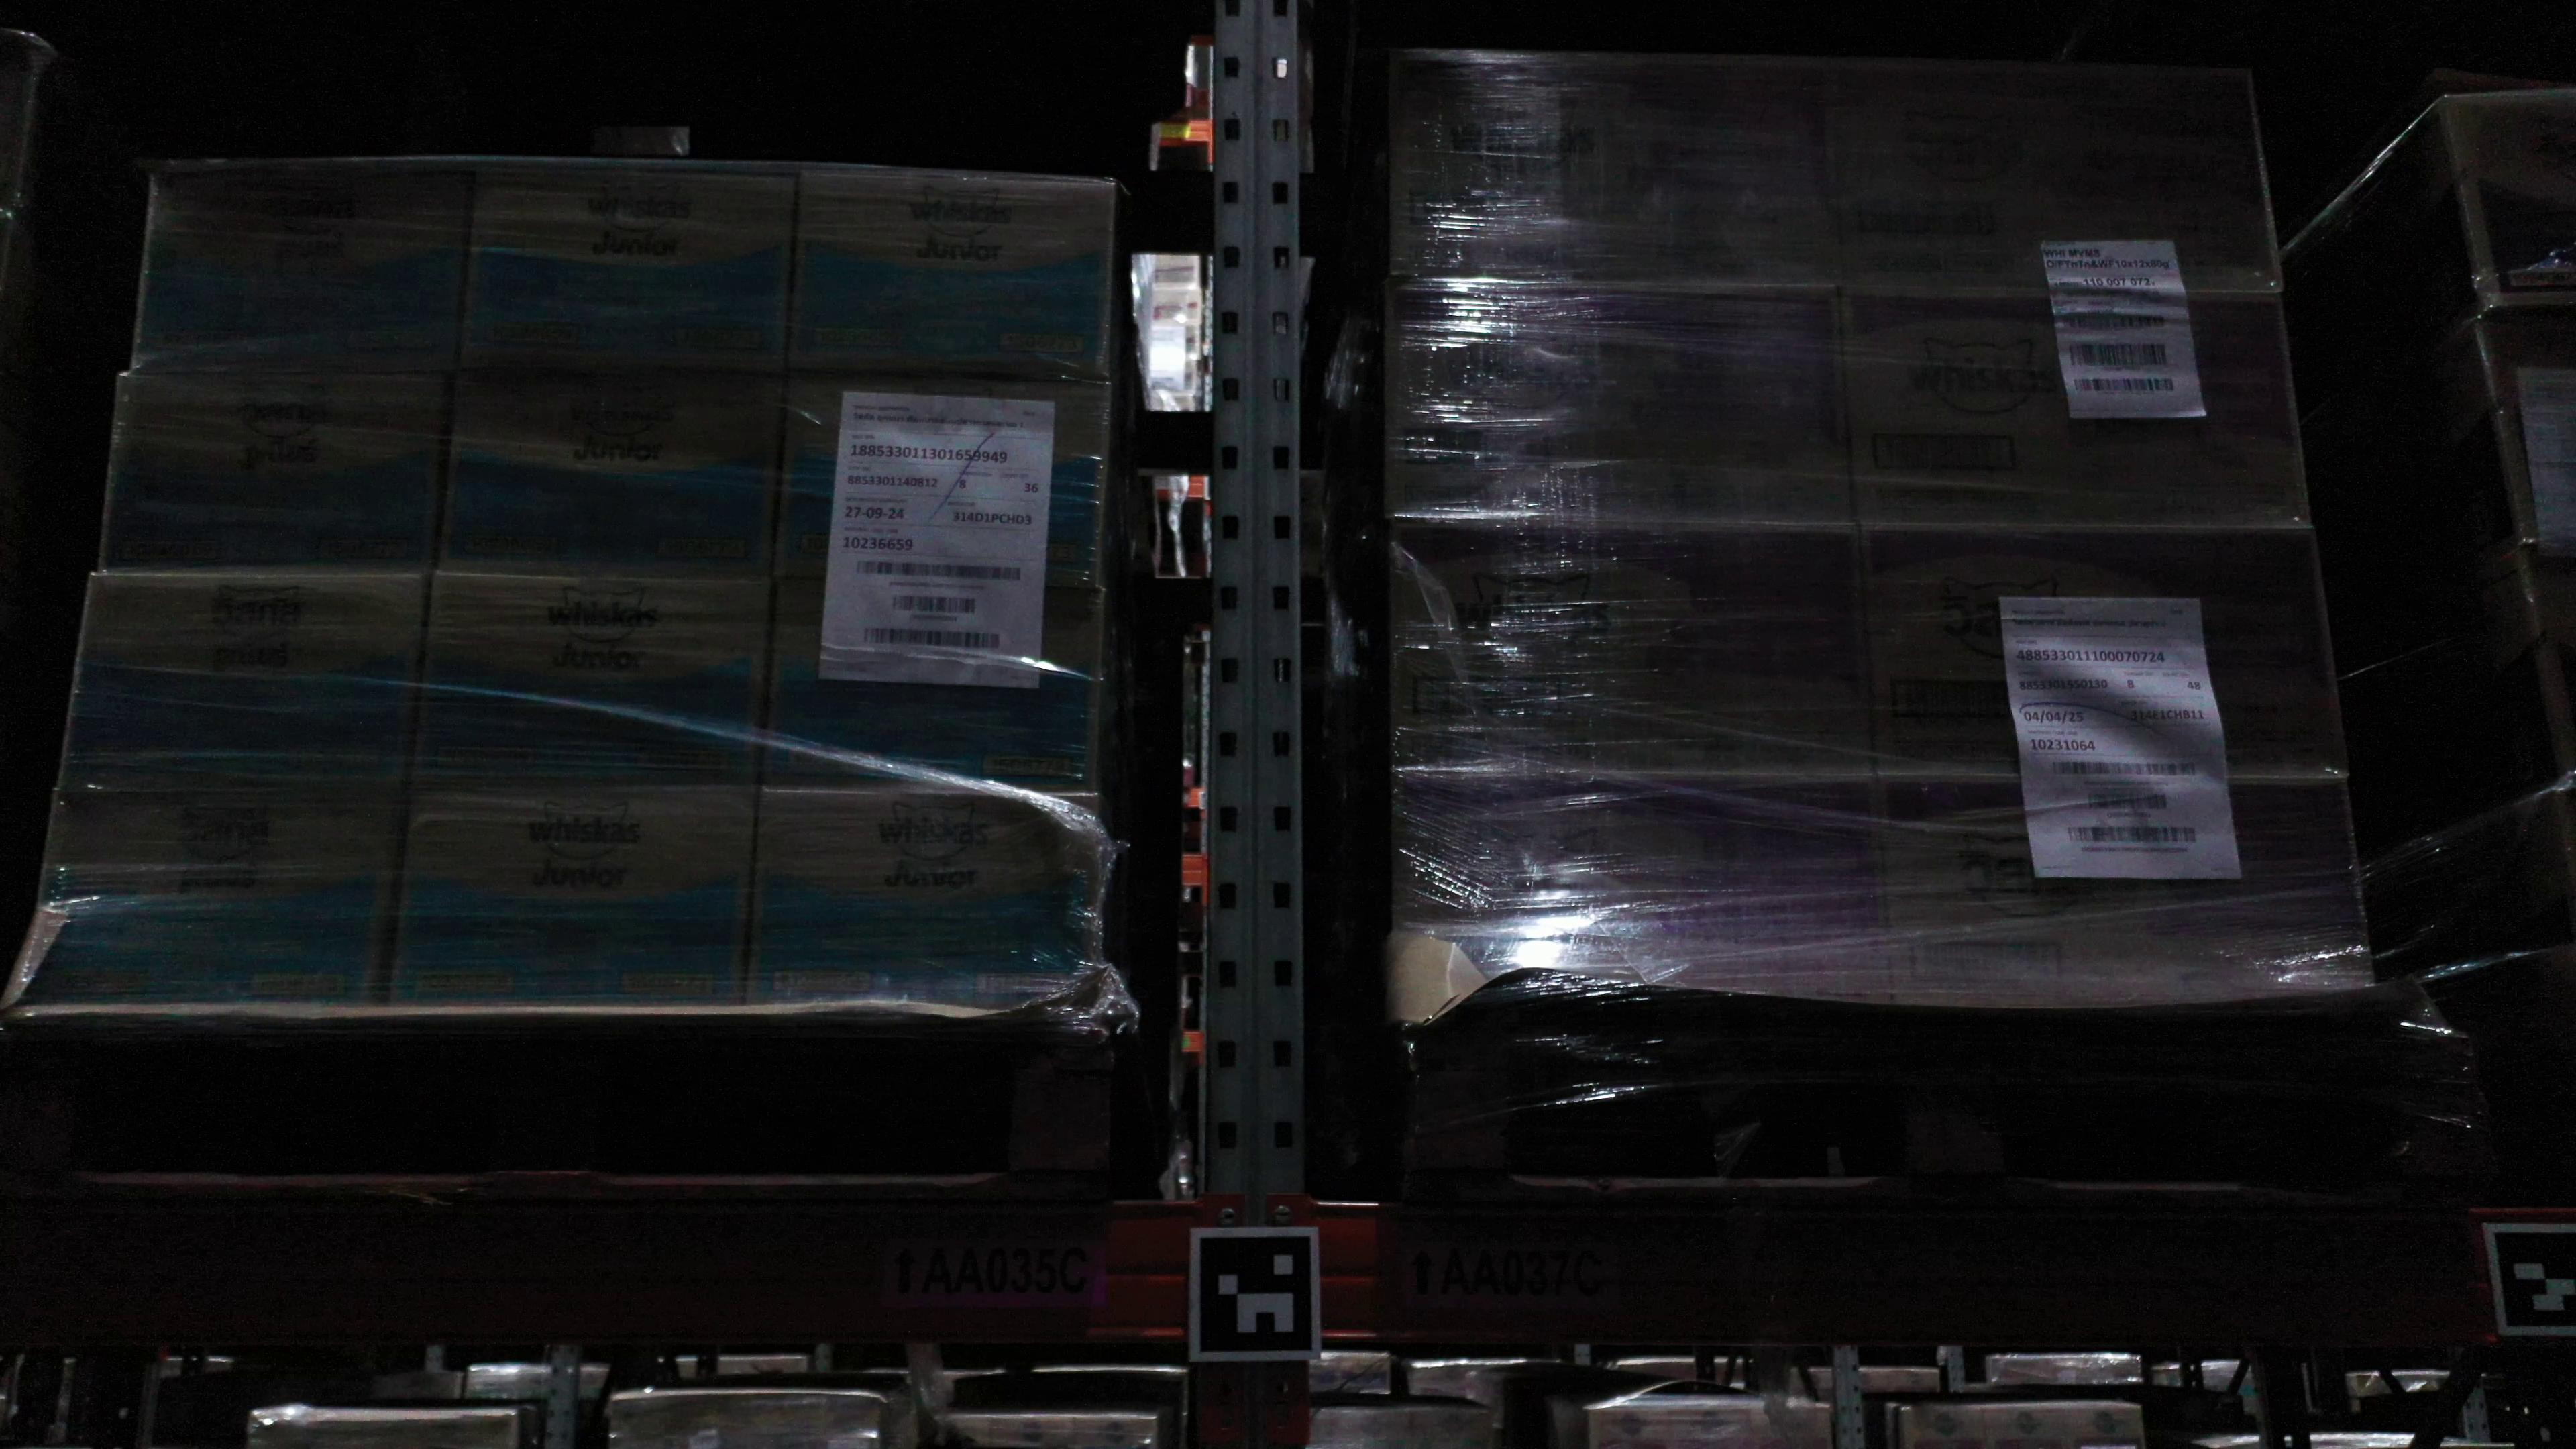-: (1389, 517, 1874, 778), (1854, 520, 2346, 777), (1391, 770, 1895, 1008), (1874, 778, 2373, 1008), (1389, 278, 1854, 524), (1840, 288, 2311, 525), (1389, 50, 1845, 288), (1829, 58, 2281, 294), (57, 573, 432, 796), (19, 794, 403, 1008), (379, 794, 761, 1008), (407, 579, 771, 794), (133, 156, 478, 379), (748, 791, 1099, 1010), (451, 161, 800, 380), (755, 584, 1104, 800), (432, 375, 787, 586), (96, 372, 451, 579), (777, 375, 1111, 593), (789, 170, 1116, 382), (2442, 90, 2576, 311), (2477, 315, 2576, 545)
